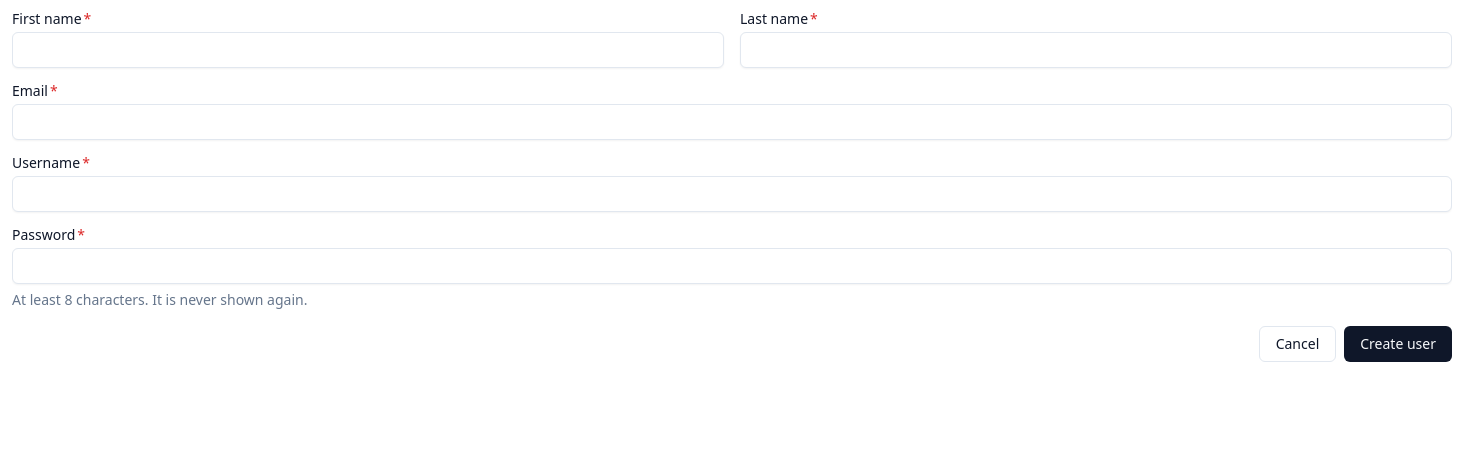
Test: UserForm — validation and state › rejects an address with no @
This screenshot has width=1464, height=461.
Type "not-an-email" into the field labelled "Email*". click: (732, 122)
box: x1=12 y1=104 x2=1452 y2=140
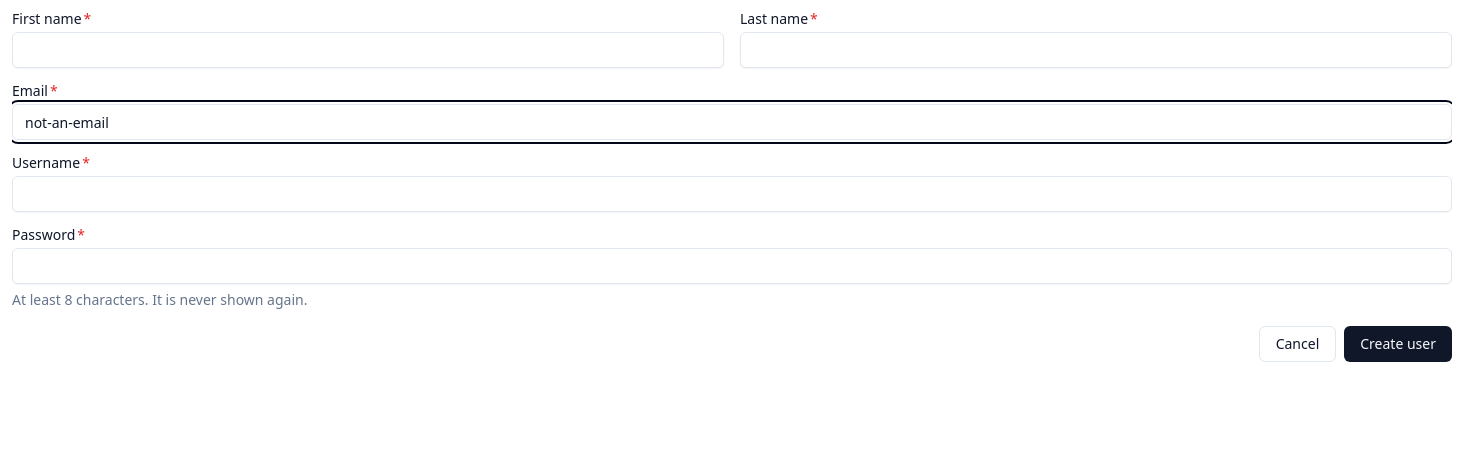
Click the button "Create user". click: click(1398, 344)
box: x1=1344 y1=326 x2=1452 y2=362
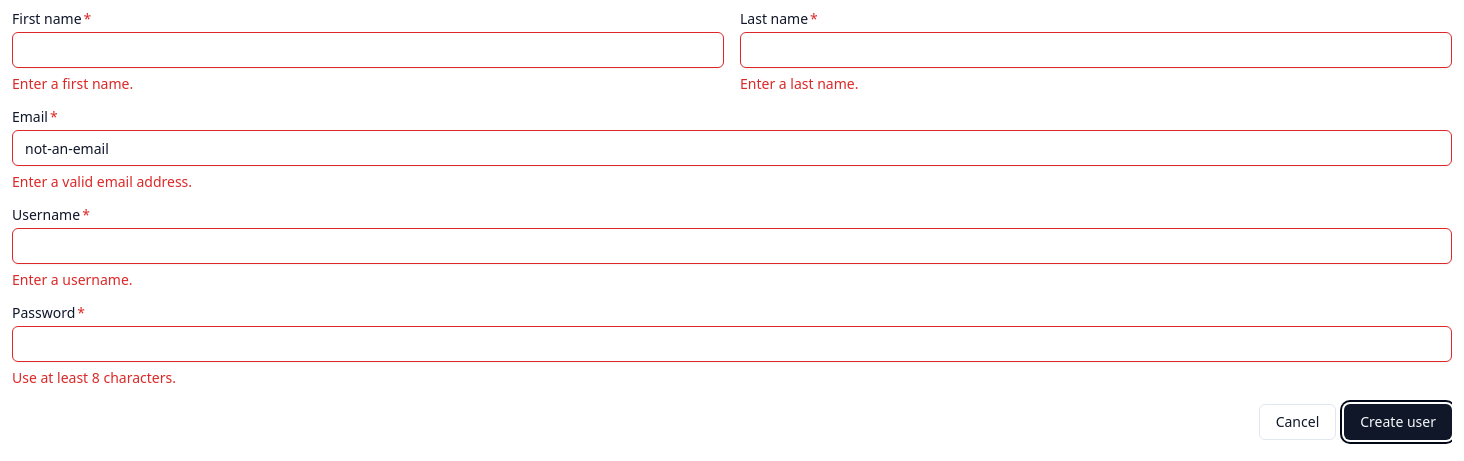
Expected: the text "Enter a valid email address." is shown, x1=12 y1=172 x2=192 y2=191
